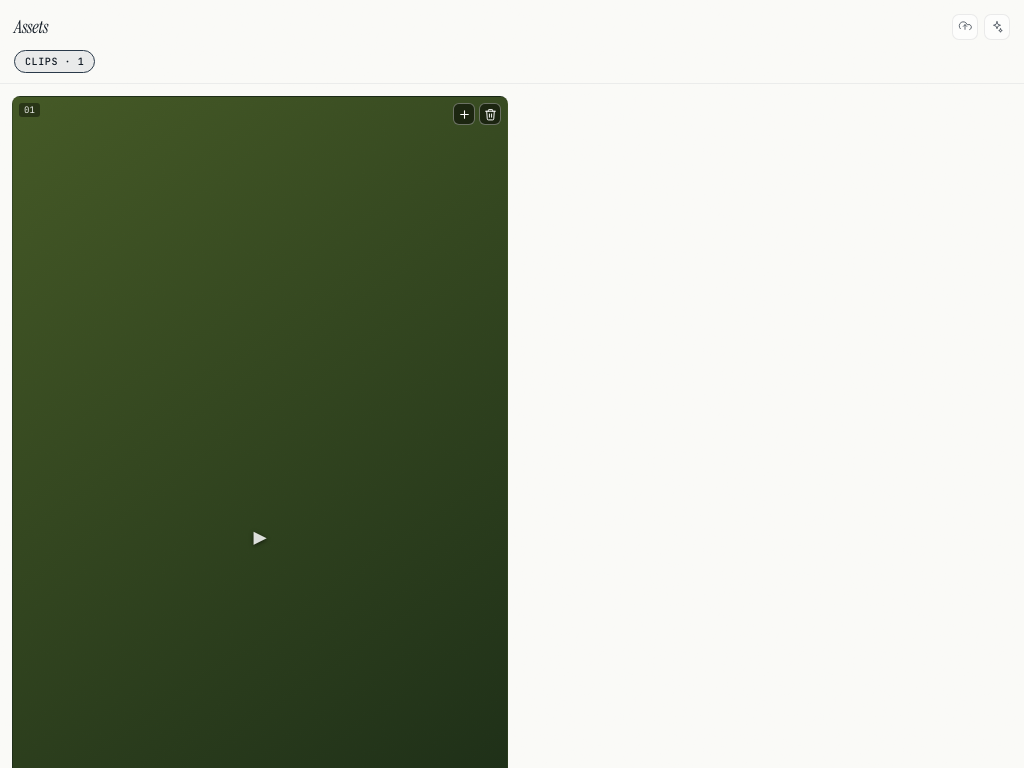
Test: LibraryTab — delete an asset (I18) › an unreferenced asset shows the plain delete copy (no clip warning)
Click the button named "delete asset" at point(490, 114), box [479, 103, 501, 125]
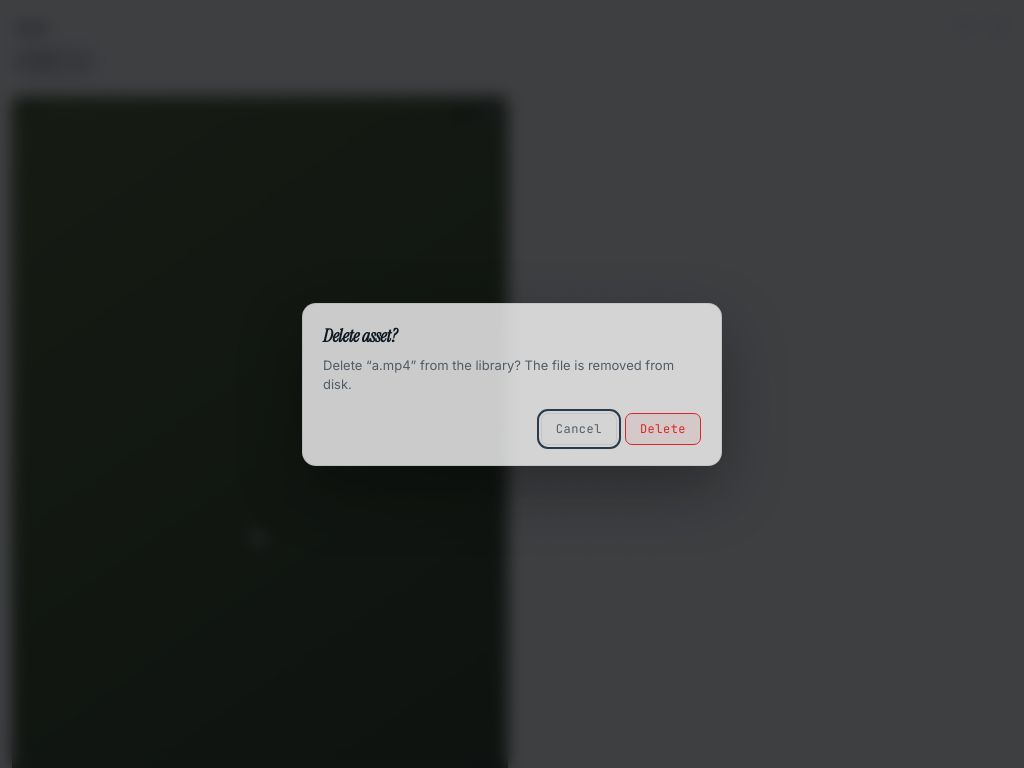
Result: the button "Delete" is shown at [625, 412, 701, 444]
